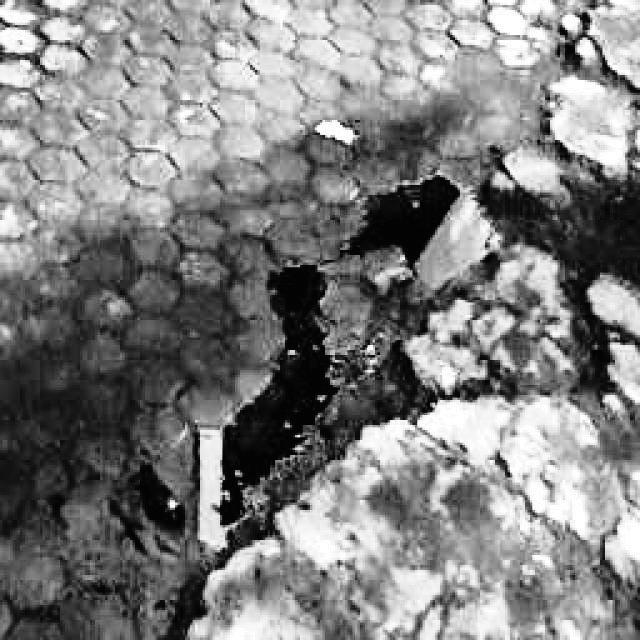Pothole: (109, 136, 529, 563)
